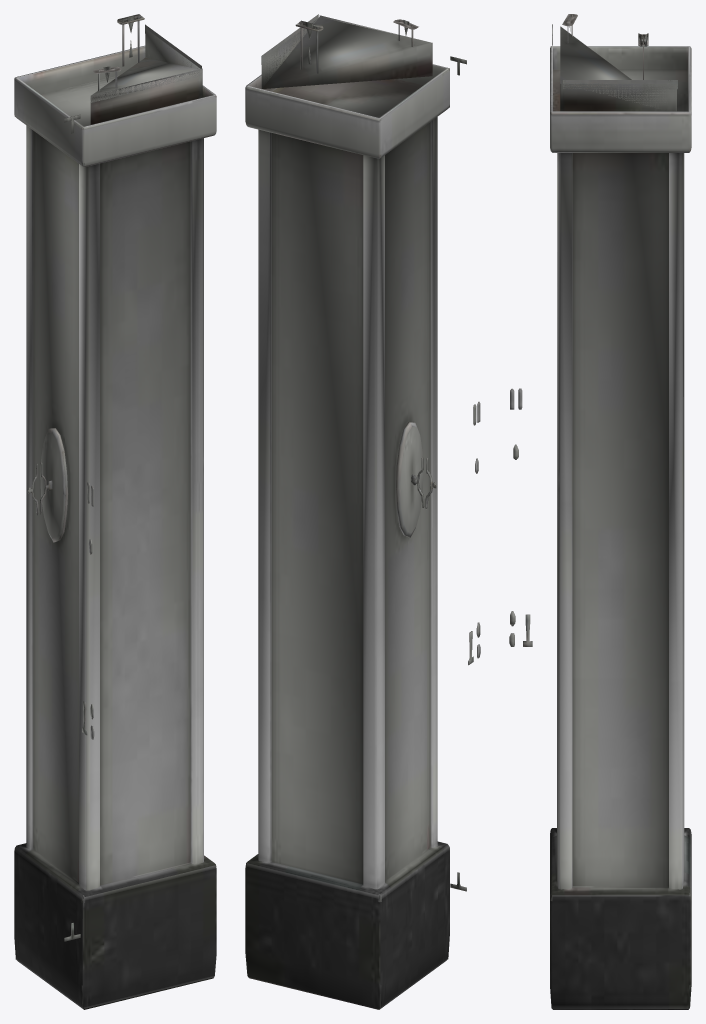
Rendered from subway-column.glb.
The picture shows the model from 3 angles, left to right: view 1: azimuth 30°, elevation 25°; view 2: azimuth 150°, elevation 25°; view 3: azimuth 270°, elevation 25°; orthographic projection.
Visible parts, largest first — view 1: tripo_node_d87c8871-648d-4bad-9dea-a52261f72717; view 2: tripo_node_d87c8871-648d-4bad-9dea-a52261f72717; view 3: tripo_node_d87c8871-648d-4bad-9dea-a52261f72717.
Part boxes in pixels (x1=…): tripo_node_d87c8871-648d-4bad-9dea-a52261f72717: x1=14, y1=14, x2=216, y2=1009; tripo_node_d87c8871-648d-4bad-9dea-a52261f72717: x1=245, y1=14, x2=480, y2=1009; tripo_node_d87c8871-648d-4bad-9dea-a52261f72717: x1=509, y1=14, x2=691, y2=1009.
Size of the model in its own units: 0.58 by 3.35 by 0.58.
1 material, 1 textured.
